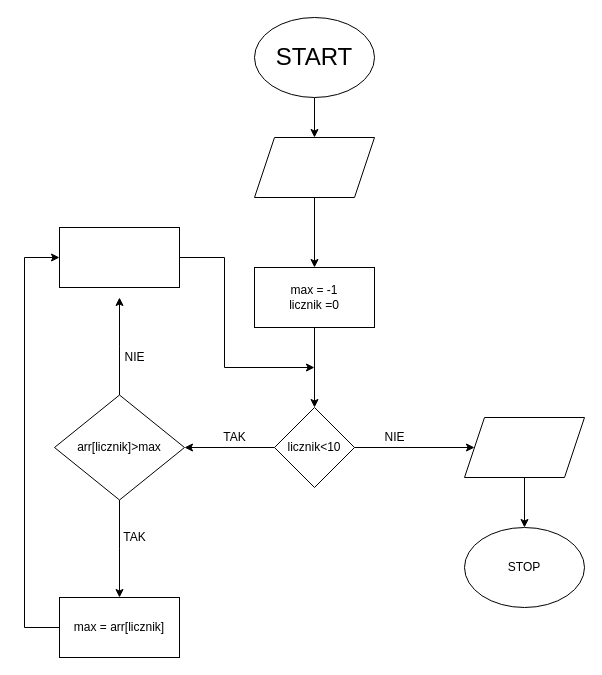
Image size: 602x675. Some labels were removed from this diagram. Each missing label, with the centre of its shape:
"licznik =licznik+1" goes at (119,257).
"WCZYTAJ ARR" goes at (314,167).
"wypisanie max" goes at (524,447).
